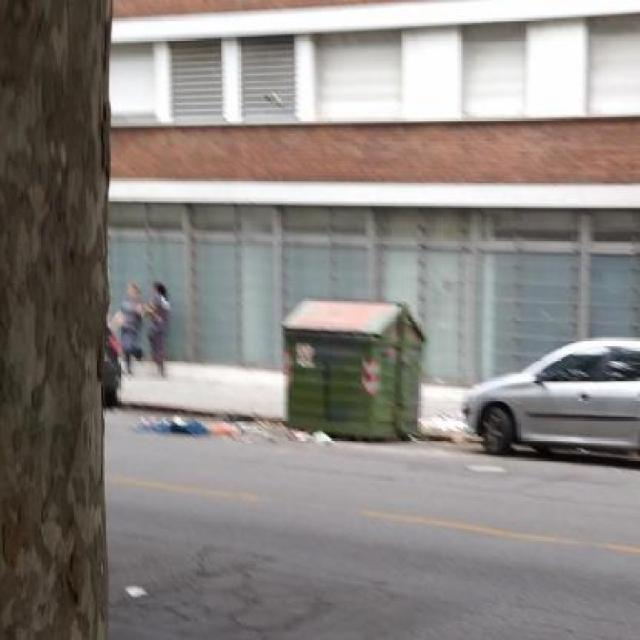garbage: (132, 400, 336, 446), (403, 416, 479, 449), (123, 581, 149, 596)
